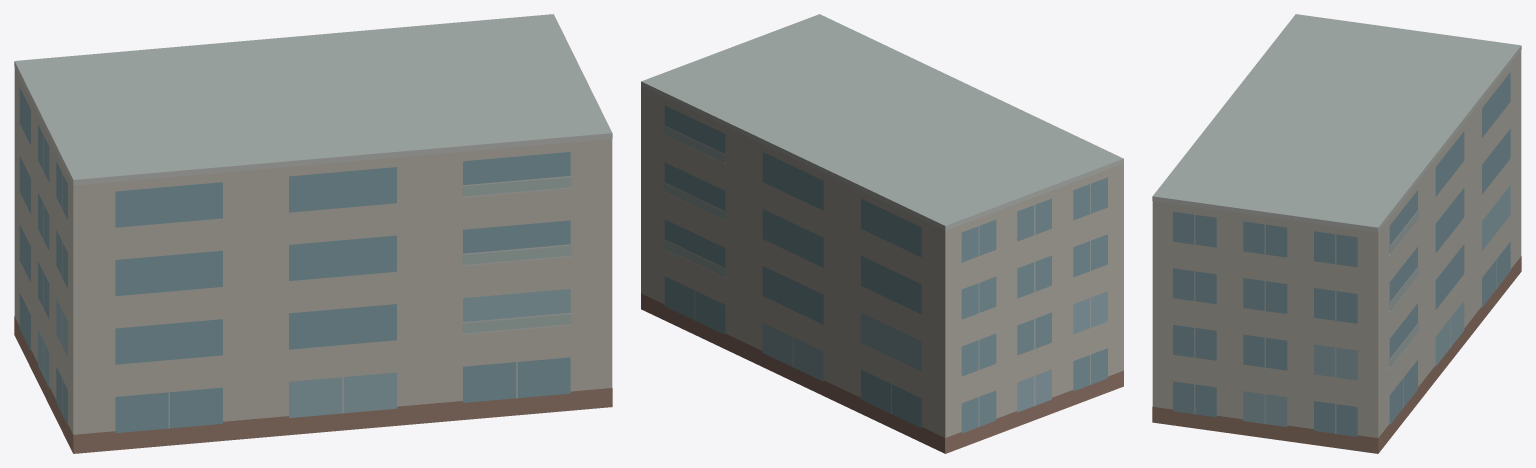
Rendered from survey-upis-32839101.glb.
The picture shows the model from 3 angles, left to right: view 1: azimuth 30°, elevation 25°; view 2: azimuth 150°, elevation 25°; view 3: azimuth 270°, elevation 25°; orthographic projection. The views are drawn at different scales.
Visible parts, largest first — view 1: survey-upis-32839101.tmp; view 2: survey-upis-32839101.tmp; view 3: survey-upis-32839101.tmp.
Part boxes in pixels (x1,y1,x2,y2): survey-upis-32839101.tmp: (14,14,612,453); survey-upis-32839101.tmp: (641,14,1123,453); survey-upis-32839101.tmp: (1152,14,1521,453).
Size of the model in its own units: 24.12 by 11.9 by 17.6.
